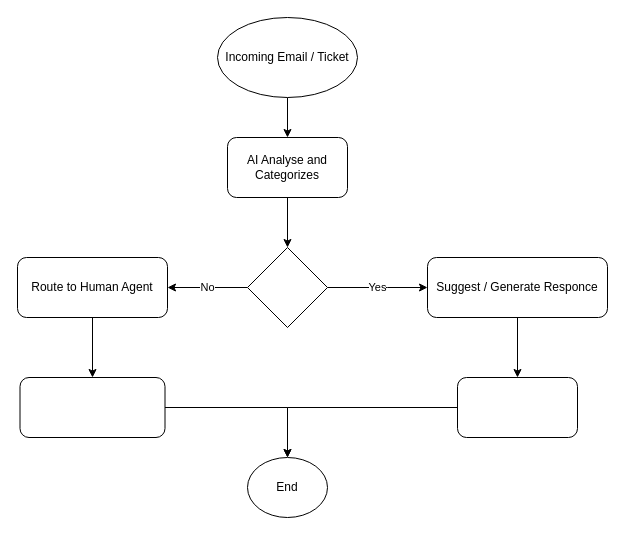
This 625x535 diagram has some shape labels left out. The shapes that lost their labels are listed below. From the top down, each one's centre as x and y in pixels, then its label:
point (287, 287): Common Query?
point (92, 407): Human Handles Issue
point (517, 407): Send Responce
